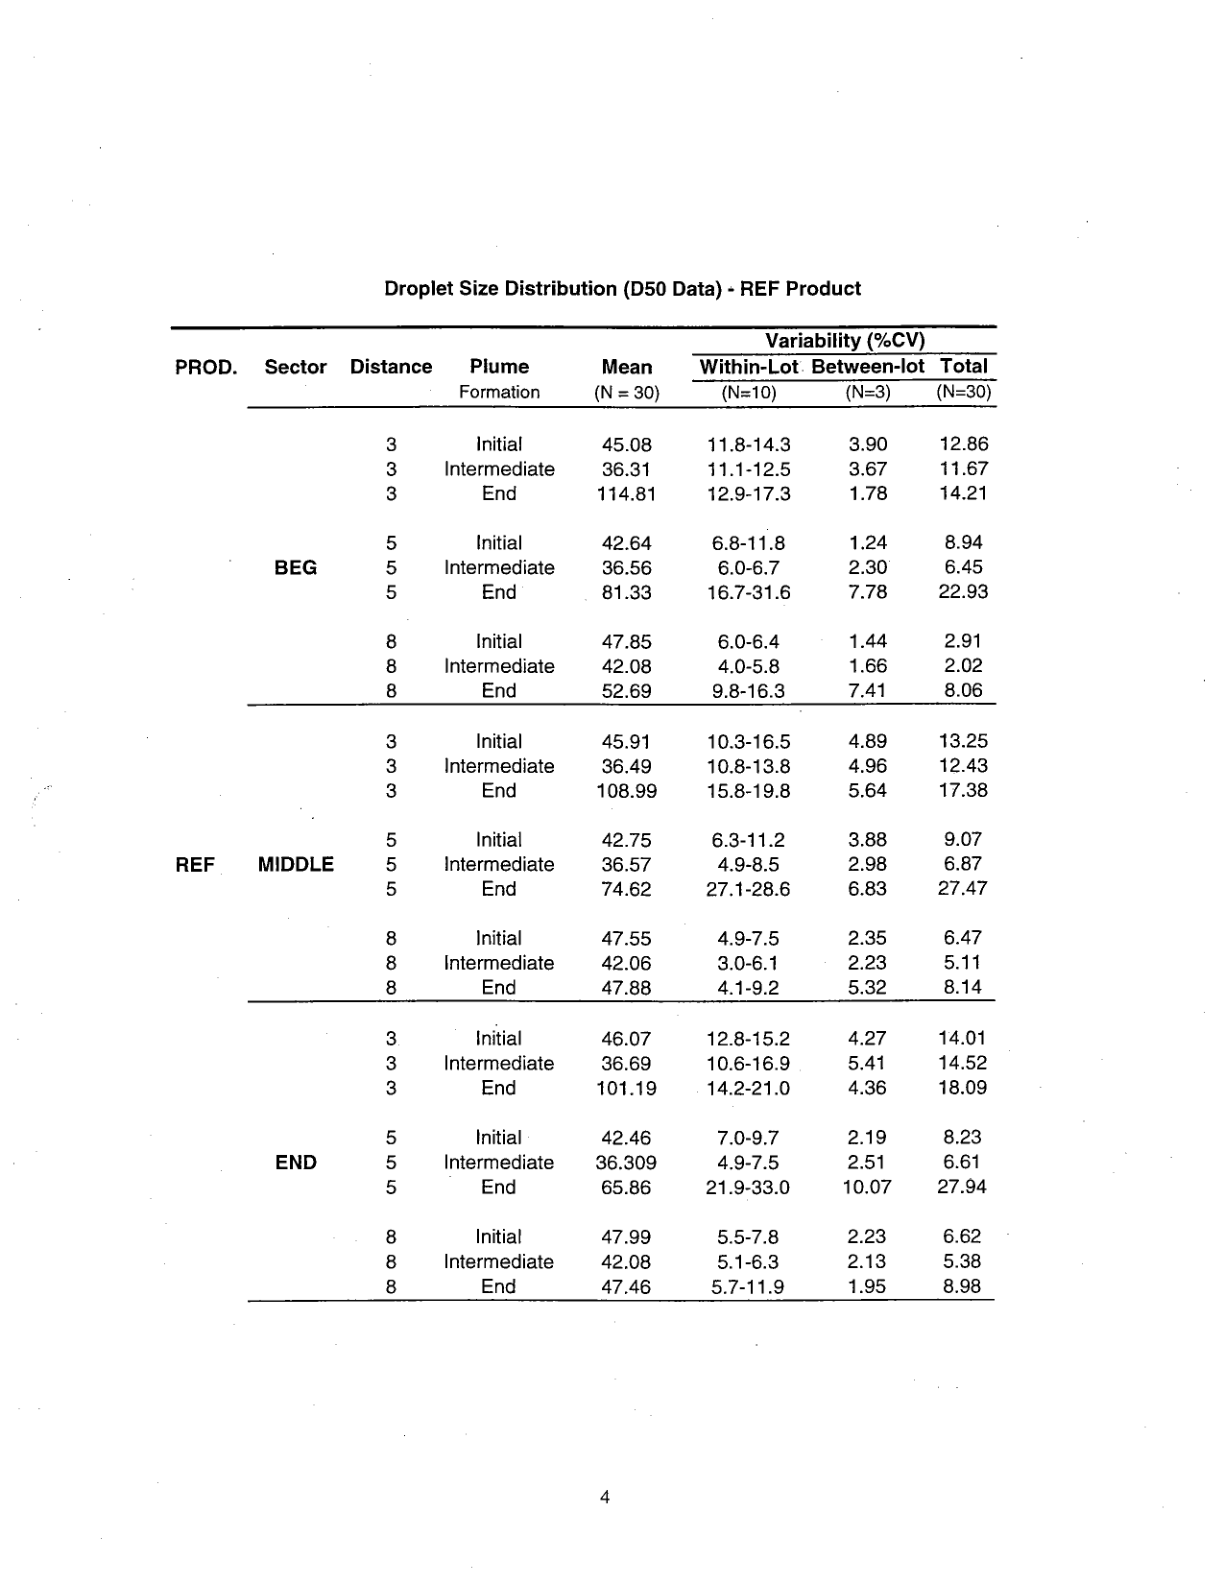partial_lined_merged_cells: (165, 321, 1002, 1306)
